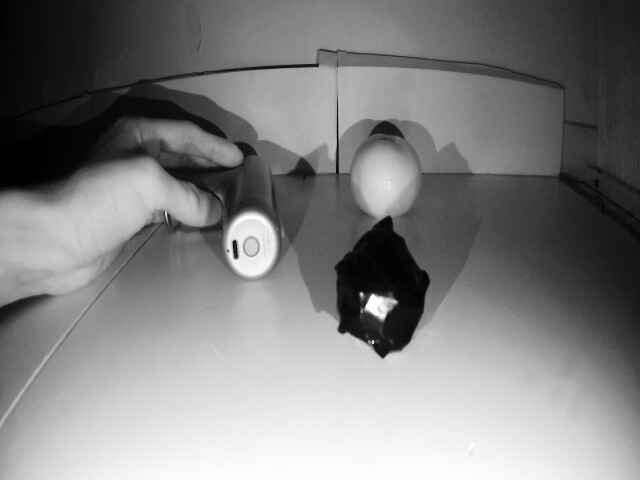black: (337, 233, 436, 347)
